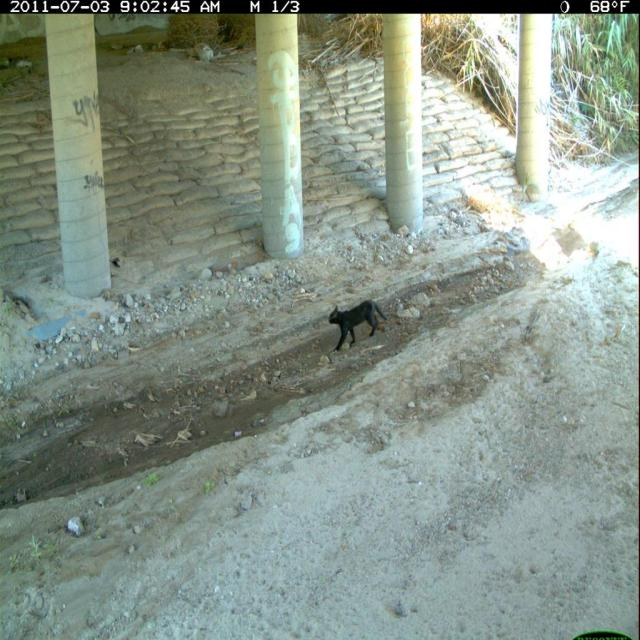cat: (325, 295, 392, 359)
